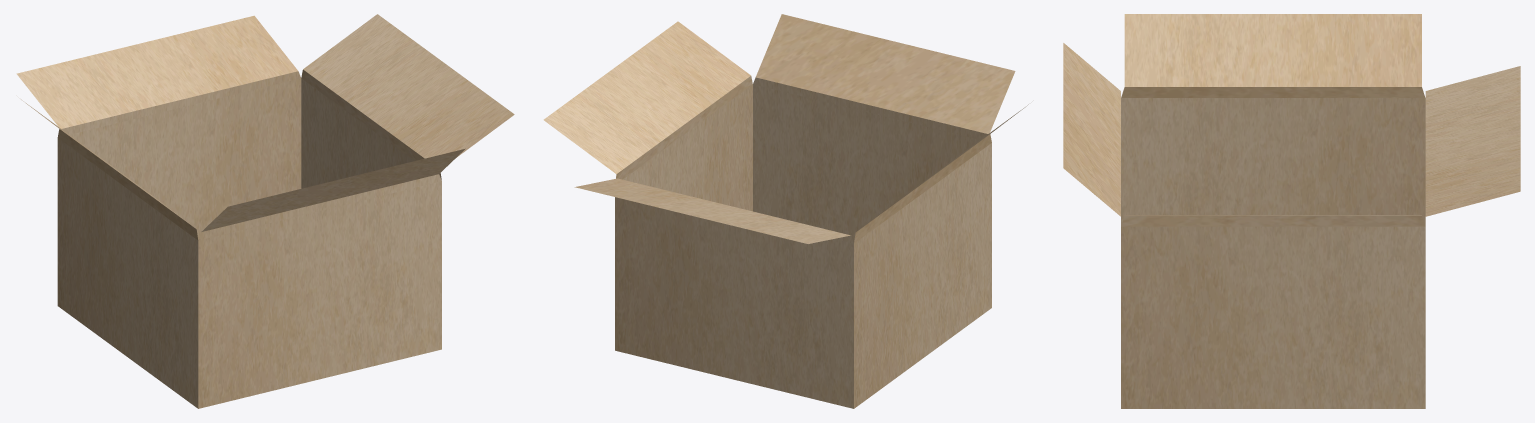
Rendered from texture.dae.
The picture shows the model from 3 angles, left to right: view 1: azimuth 30°, elevation 25°; view 2: azimuth 150°, elevation 25°; view 3: azimuth 270°, elevation 25°; orthographic projection. The views are drawn at different scales.
Parts seen in each view (by area): view 1: Cube; view 2: Cube; view 3: Cube.
Boxes of the visible parts, box(x1,y1,x2,y2) form: Cube: box(16, 14, 514, 408); Cube: box(543, 14, 1028, 408); Cube: box(1063, 14, 1520, 408).
Size of the model in its own units: 0.7459 by 0.7514 by 0.4392.
1 material, 1 textured.
